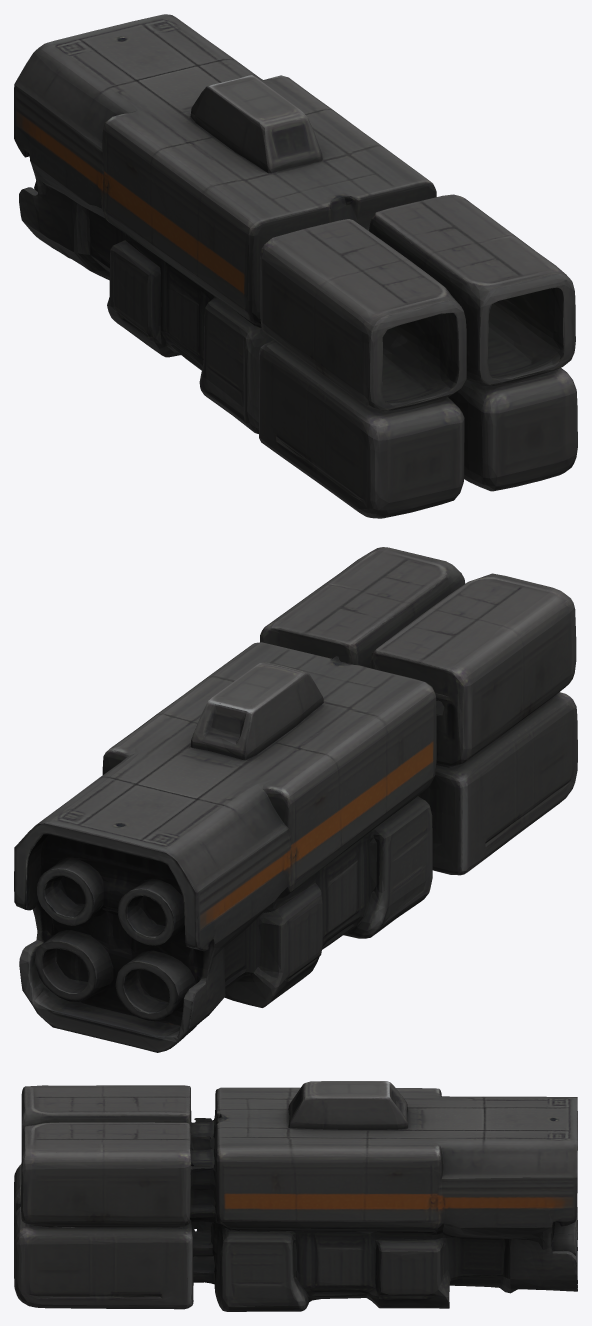
The model's file is cargo-ship.glb.
The picture shows the model from 3 angles, top to bottom: view 1: azimuth 30°, elevation 25°; view 2: azimuth 150°, elevation 25°; view 3: azimuth 270°, elevation 25°; orthographic projection. The views are drawn at different scales.
Visible parts, largest first — view 1: geometry_0.005; view 2: geometry_0.005; view 3: geometry_0.005.
Part boxes in pixels (x1,y1,x2,y2): geometry_0.005: (14,14,577,518); geometry_0.005: (14,547,577,1052); geometry_0.005: (14,1081,577,1311).
Bounding box in the file's own units: 130 × 153 × 400.
1 material, 1 textured.
